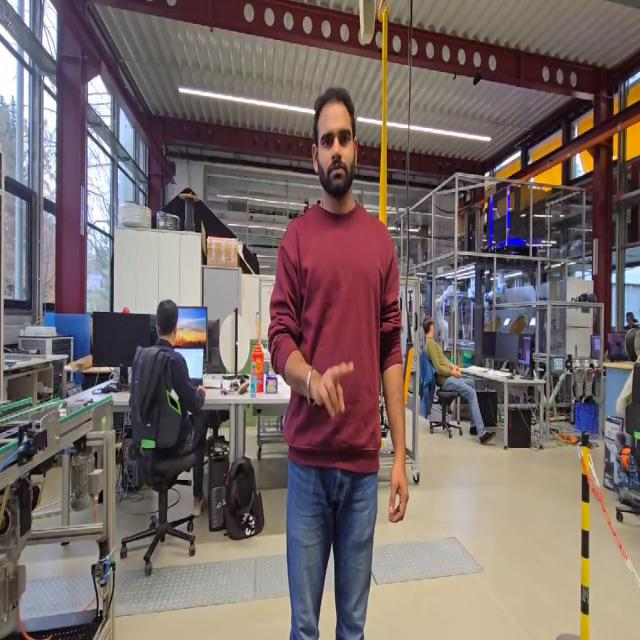v_sign: (312, 357, 356, 422)
